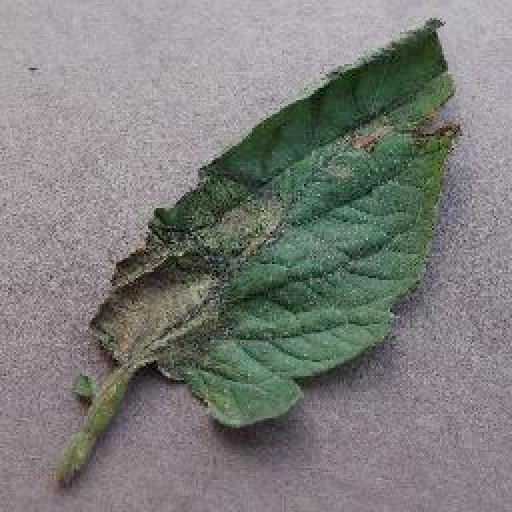disease_tomato: (85, 19, 459, 429)
